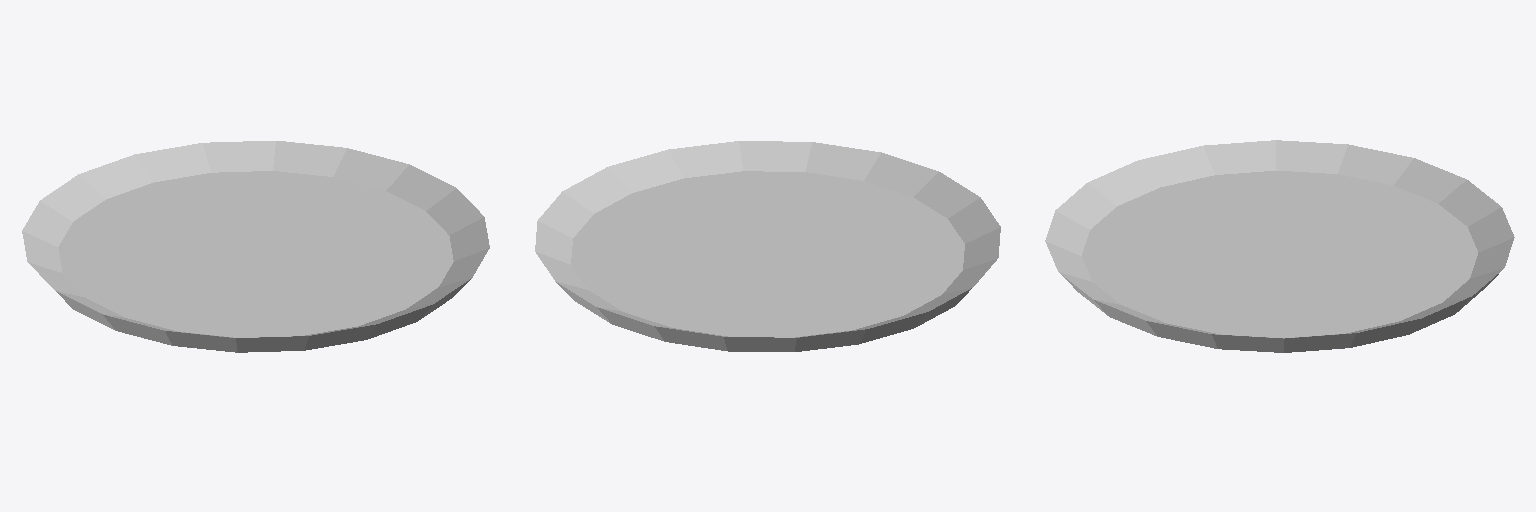
Rendered from PlateSmall_Banquet_geo.obj.
The picture shows the model from 3 angles: view 1: azimuth 30°, elevation 25°; view 2: azimuth 150°, elevation 25°; view 3: azimuth 270°, elevation 25°; orthographic projection.
Parts seen in each view (by area): view 1: REDO:Plate; view 2: REDO:Plate; view 3: REDO:Plate.
Part boxes in pixels (bbox=[...]): REDO:Plate: bbox=[22, 141, 489, 352]; REDO:Plate: bbox=[535, 141, 1000, 351]; REDO:Plate: bbox=[1045, 140, 1514, 352].
Bounding box in the file's own units: 8.4 × 0.6572 × 8.4.